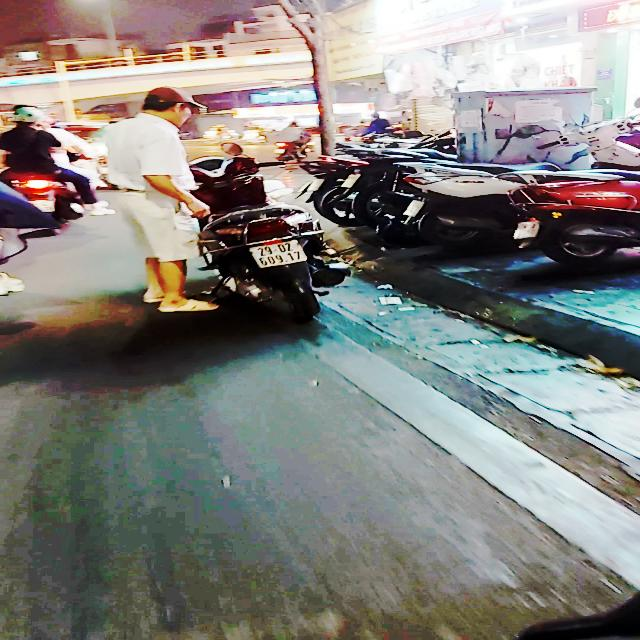license_plate: (243, 239, 314, 272)
